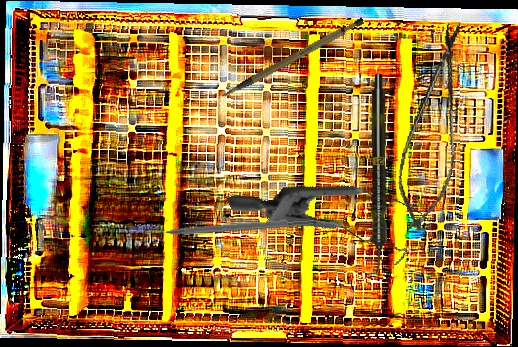Handpiece: (370, 74, 387, 273)
Hook Surgical: (143, 216, 317, 238)
Micro Scissor: (389, 16, 478, 238)
Scalpel Handle: (212, 14, 372, 99)
Speculum: (226, 132, 437, 315)
